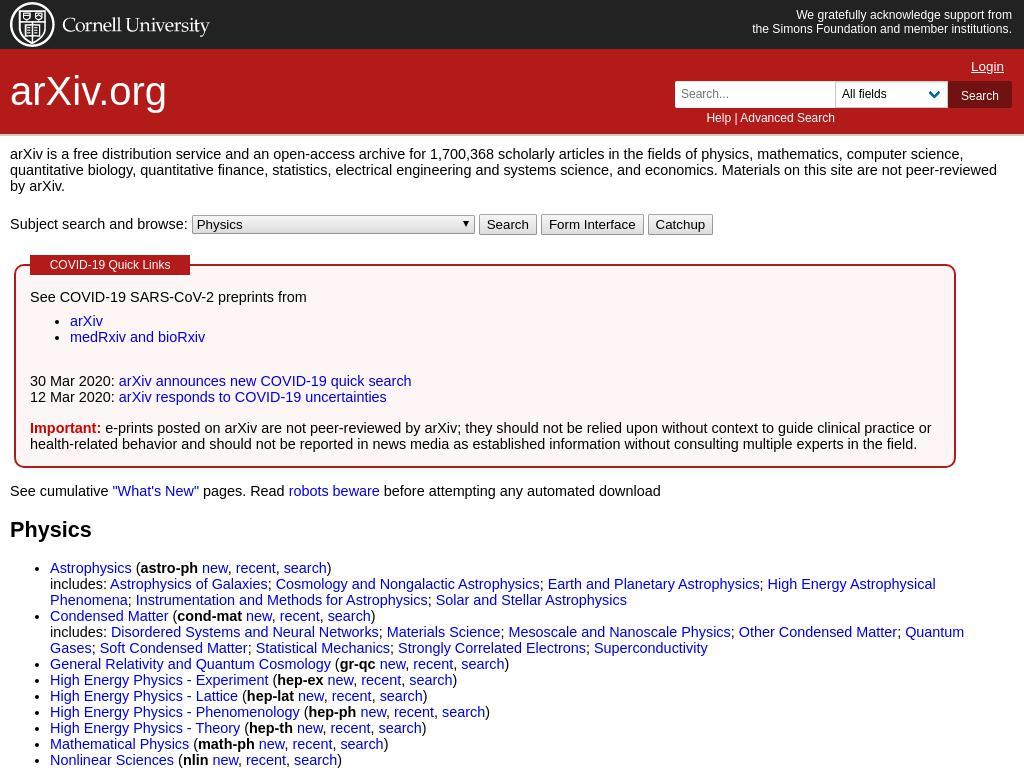button: (947, 80, 1012, 108)
field: (191, 215, 475, 235), (674, 80, 847, 108), (834, 80, 948, 108), (540, 214, 644, 236), (647, 214, 714, 236), (478, 214, 537, 236)
heading: (10, 516, 1014, 543), (10, 69, 168, 114)
image: (10, 2, 210, 47)
link: (50, 624, 965, 657), (50, 576, 936, 609), (118, 373, 412, 390), (135, 592, 428, 609), (50, 656, 332, 673), (118, 389, 387, 406), (110, 624, 379, 641), (275, 576, 540, 593), (50, 704, 301, 721), (508, 624, 732, 641), (50, 672, 269, 689), (547, 576, 760, 593), (435, 592, 627, 609), (50, 720, 241, 737), (398, 640, 587, 657), (50, 688, 239, 705), (110, 576, 269, 593), (738, 624, 897, 641), (99, 640, 248, 657), (50, 736, 190, 753), (70, 328, 206, 345), (255, 640, 390, 657), (50, 608, 169, 625), (50, 752, 175, 768), (594, 640, 709, 657), (386, 624, 500, 641), (288, 482, 380, 499), (112, 482, 200, 499), (740, 110, 836, 125), (50, 560, 133, 577), (340, 736, 385, 753), (283, 560, 327, 577), (327, 608, 371, 625), (461, 656, 505, 673), (409, 672, 453, 689), (379, 688, 423, 705), (442, 704, 486, 721), (378, 720, 422, 737), (294, 752, 338, 768), (235, 560, 276, 577), (279, 608, 320, 625), (413, 656, 454, 673), (361, 672, 402, 689), (331, 688, 372, 705), (394, 704, 435, 721), (330, 720, 371, 737), (292, 736, 333, 753), (246, 752, 287, 768), (70, 312, 104, 329), (971, 59, 1005, 74), (202, 560, 229, 577), (246, 608, 273, 625), (298, 688, 325, 705), (360, 704, 387, 721), (296, 720, 323, 737), (379, 656, 405, 673), (327, 672, 353, 689), (258, 736, 284, 753), (212, 752, 239, 768), (706, 110, 732, 125)
text: (10, 145, 1014, 199), (30, 419, 933, 452), (30, 289, 940, 306), (379, 482, 661, 499), (752, 22, 1013, 36), (30, 255, 191, 276), (10, 216, 193, 233), (796, 8, 1013, 22), (10, 482, 113, 499), (199, 482, 290, 499), (30, 373, 120, 390), (30, 389, 120, 406), (30, 419, 102, 436), (177, 608, 243, 625), (50, 624, 112, 641), (50, 576, 111, 593), (140, 560, 199, 577), (198, 736, 256, 753), (308, 704, 357, 721), (277, 672, 325, 689), (246, 688, 294, 705), (248, 720, 293, 737), (339, 656, 376, 673), (182, 752, 208, 768), (168, 608, 178, 625), (330, 656, 340, 673), (268, 672, 278, 689), (238, 688, 248, 705), (240, 720, 250, 737), (189, 736, 199, 753), (174, 752, 184, 768), (131, 560, 140, 577), (227, 560, 236, 577), (275, 560, 284, 577), (267, 576, 276, 593), (539, 576, 548, 593), (759, 576, 768, 593), (127, 592, 136, 609), (427, 592, 436, 609), (271, 608, 280, 625), (319, 608, 328, 625), (378, 624, 387, 641), (500, 624, 509, 641), (730, 624, 739, 641), (897, 624, 906, 641), (91, 640, 100, 657), (247, 640, 256, 657), (390, 640, 399, 657), (586, 640, 595, 657), (405, 656, 414, 673), (453, 656, 462, 673), (353, 672, 362, 689), (401, 672, 410, 689), (323, 688, 332, 705), (371, 688, 380, 705), (299, 704, 308, 721), (386, 704, 395, 721), (434, 704, 443, 721), (322, 720, 331, 737), (370, 720, 379, 737), (284, 736, 293, 753), (332, 736, 341, 753), (731, 110, 741, 125), (238, 752, 247, 768), (286, 752, 295, 768), (326, 560, 332, 577), (370, 608, 376, 625), (504, 656, 510, 673), (452, 672, 458, 689), (422, 688, 428, 705), (485, 704, 491, 721), (421, 720, 427, 737), (337, 752, 343, 768), (383, 736, 388, 753)
